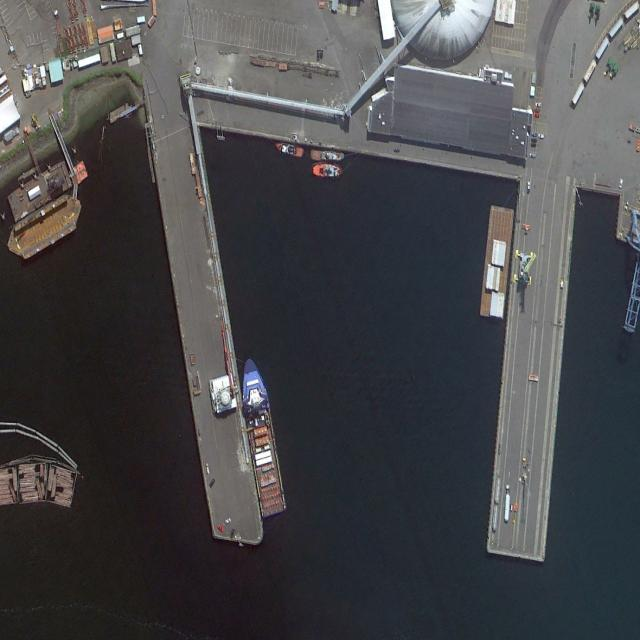Other Ship: (237, 352, 286, 518)
